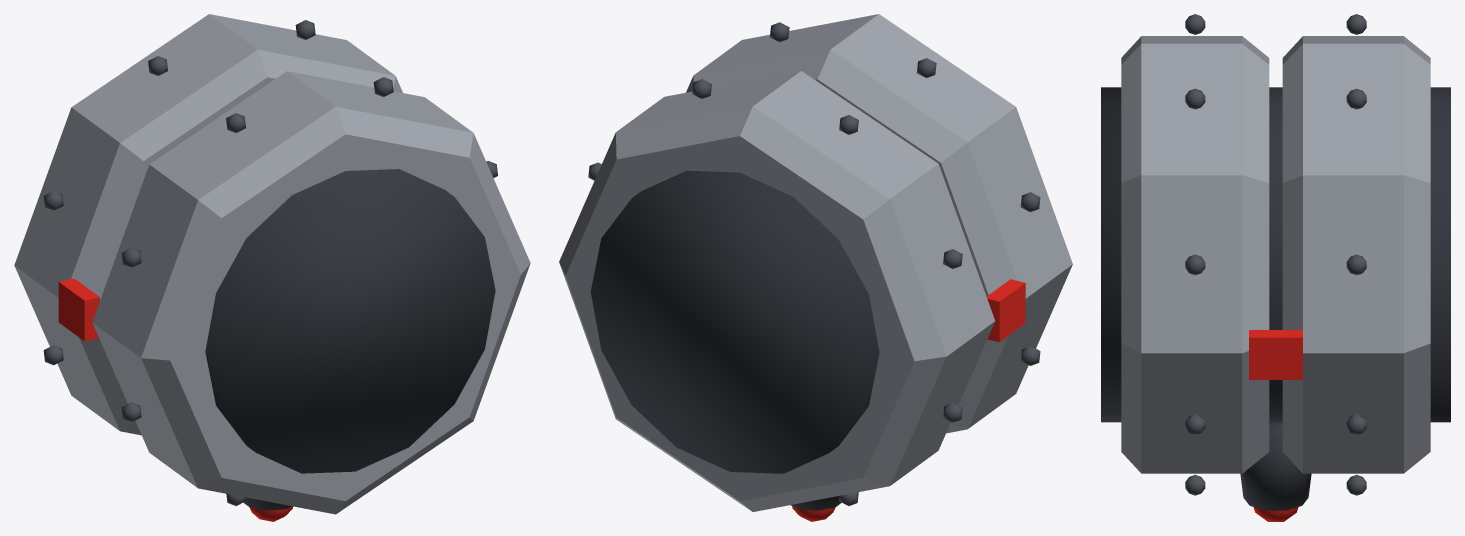
Rendered from the_destroyer_body.glb.
3 views of the same model, side by side, from view 1: azimuth 30°, elevation 25°; view 2: azimuth 150°, elevation 25°; view 3: azimuth 270°, elevation 25° (orthographic). The views are drawn at different scales.
Parts seen in each view (by area): view 1: the_destroyer_body; view 2: the_destroyer_body; view 3: the_destroyer_body.
Boxes of the visible parts, left/top/right/bottom form: the_destroyer_body: left=14, top=14, right=530, bottom=521; the_destroyer_body: left=559, top=14, right=1072, bottom=521; the_destroyer_body: left=1101, top=14, right=1450, bottom=521.
Bounding box in the file's own units: 1.87 × 2.03 × 1.35.
